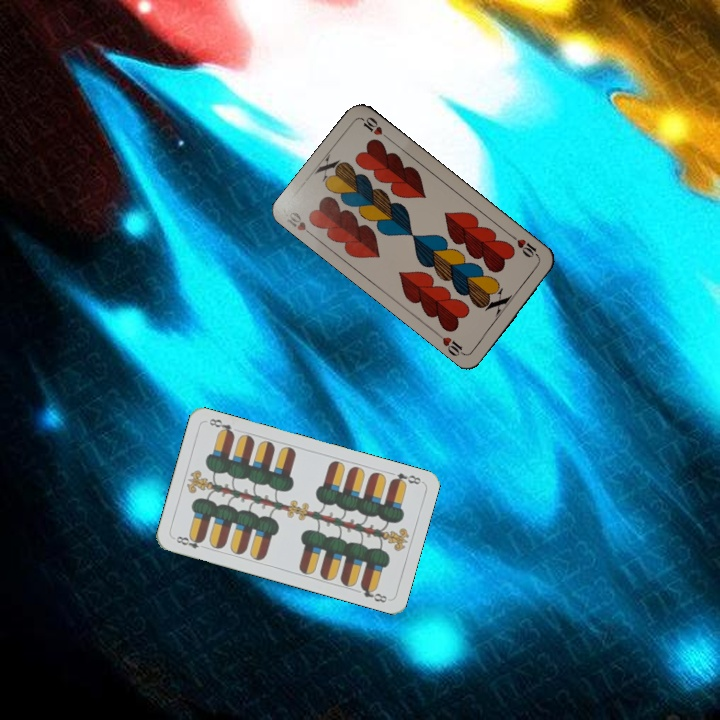E8: (170, 532, 209, 552), (386, 469, 423, 488)
H10: (282, 207, 317, 240), (507, 231, 542, 261)
